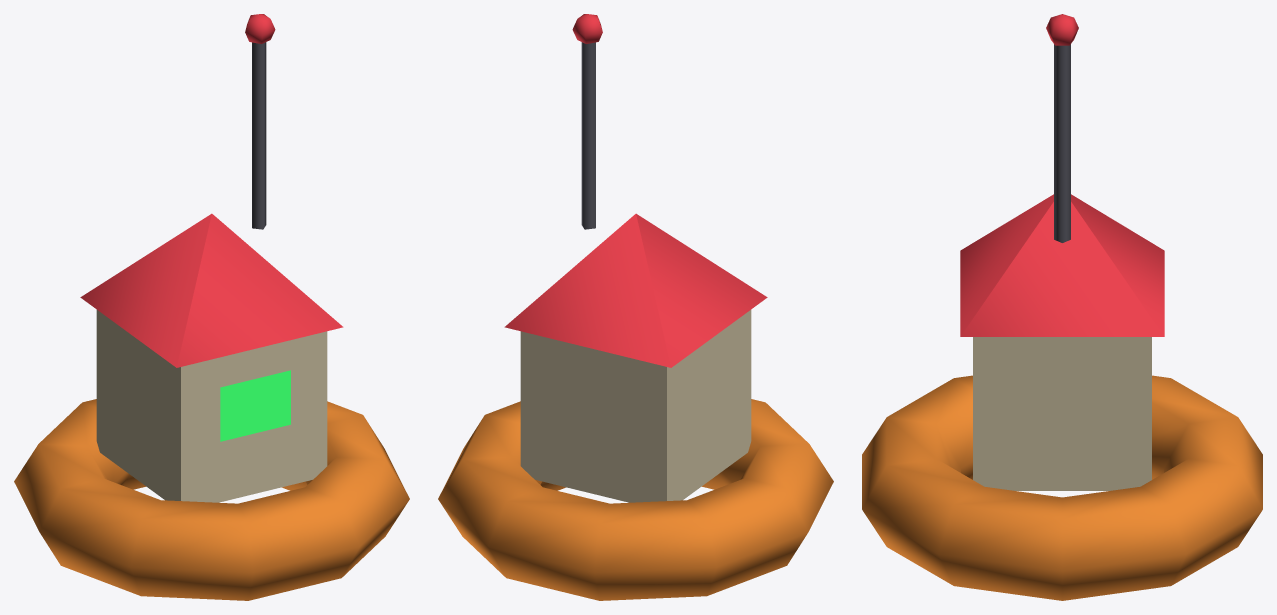
File: office-buoy.glb
The picture shows the model from 3 angles, left to right: view 1: azimuth 30°, elevation 25°; view 2: azimuth 150°, elevation 25°; view 3: azimuth 270°, elevation 25°; orthographic projection. The views are drawn at different scales.
Visible parts, largest first — view 1: OfficeBuoy; view 2: OfficeBuoy; view 3: OfficeBuoy.
Part boxes in pixels (x1,y1,x2,y2): OfficeBuoy: [14, 14, 409, 600]; OfficeBuoy: [438, 14, 833, 600]; OfficeBuoy: [862, 14, 1262, 600].
Size of the model in its own units: 1.46 by 2.04 by 1.39.
